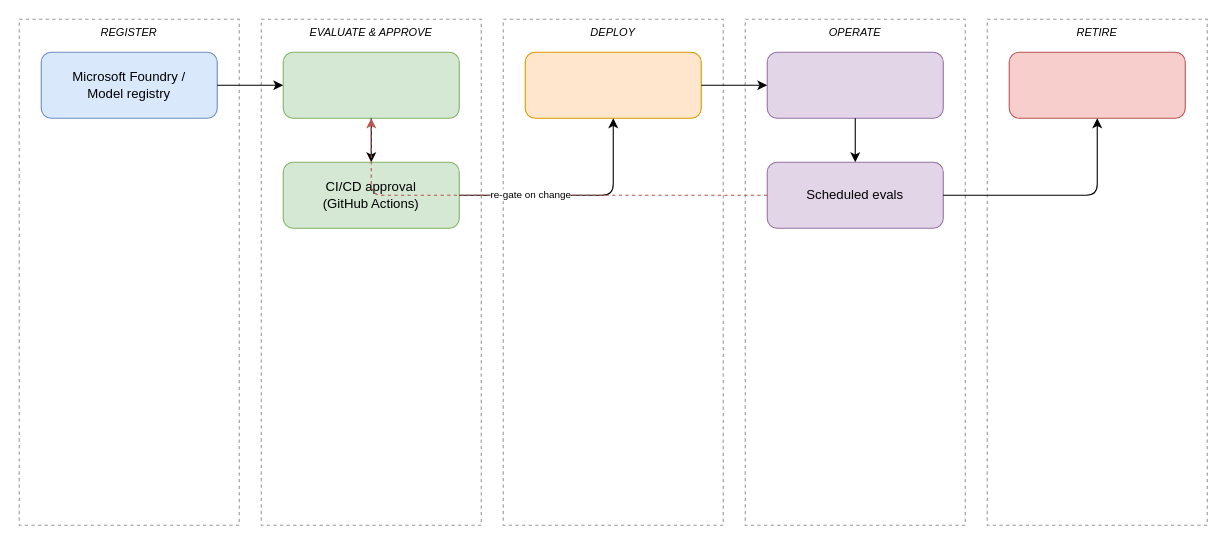
The diagram is 1227 pixels wide and 545 high, and some of its shapes have lost their labels. The shapes that lost their labels are listed below. From the top down, each one's centre as x and y in pixels, then its label:
the point at 370,84: Evaluators (quality gate)
the point at 612,84: Managed endpoint (canary)
the point at 854,84: Azure Monitor / Model monitoring
the point at 1096,84: Deprecate / decommission
